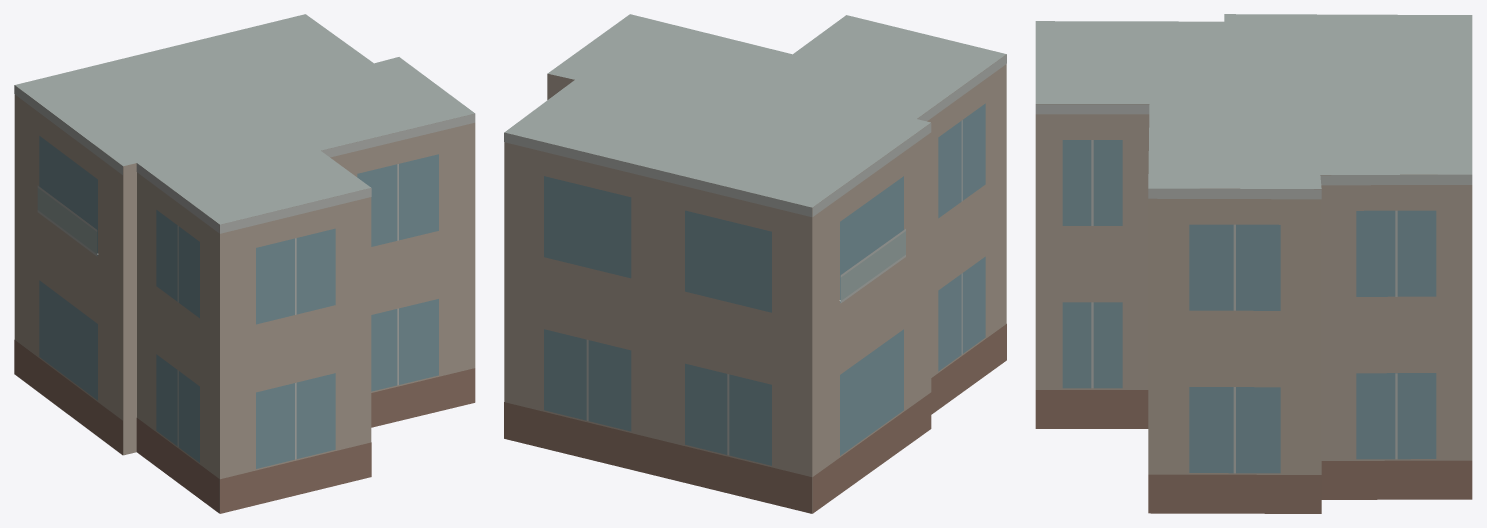
The model's file is survey-upis-32599738.glb.
3 views of the same model, side by side, from view 1: azimuth 30°, elevation 25°; view 2: azimuth 150°, elevation 25°; view 3: azimuth 270°, elevation 25° (orthographic). The views are drawn at different scales.
Parts seen in each view (by area): view 1: survey-upis-32599738.tmp; view 2: survey-upis-32599738.tmp; view 3: survey-upis-32599738.tmp.
Part boxes in pixels (bbox=[...]): survey-upis-32599738.tmp: bbox=[14, 14, 475, 513]; survey-upis-32599738.tmp: bbox=[504, 14, 1006, 513]; survey-upis-32599738.tmp: bbox=[1035, 14, 1472, 513].
Bounding box in the file's own units: 8.93 × 7.7 × 9.41.
